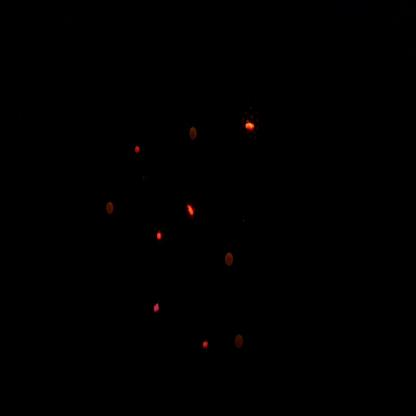PET: (129, 136, 147, 168), (150, 293, 166, 327), (201, 331, 212, 361)
PS: (187, 119, 201, 150), (233, 329, 249, 354), (104, 193, 118, 221), (223, 247, 238, 272)
PVC: (238, 109, 262, 141), (183, 199, 200, 227), (151, 223, 165, 254)
